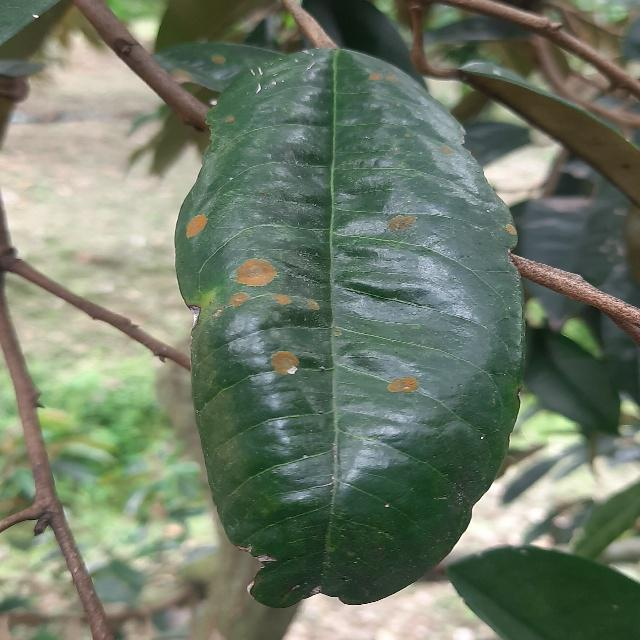Algal Leaf Spot: (165, 35, 534, 611)
